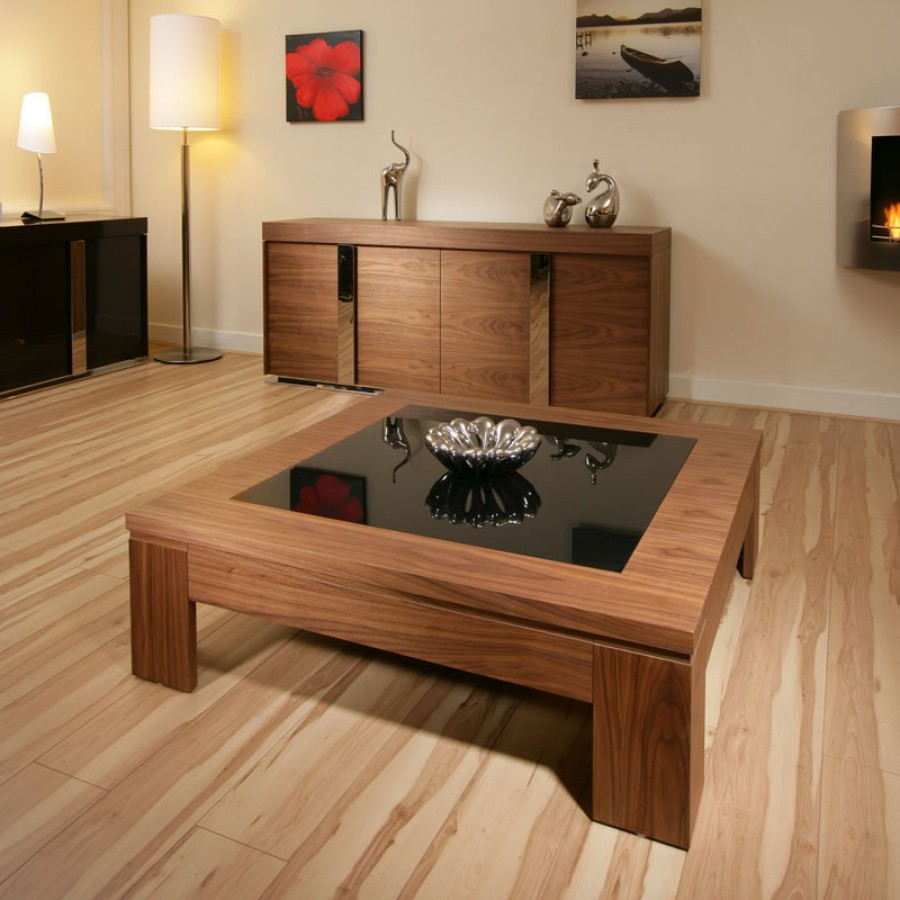cabinet: (248, 201, 683, 425)
table: (112, 383, 780, 865)
